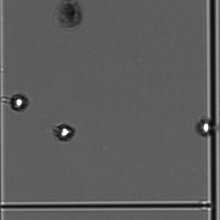Dead Cell: (56, 1, 83, 30)
Living Cell: (52, 121, 77, 142), (8, 93, 29, 113), (195, 118, 215, 138)
